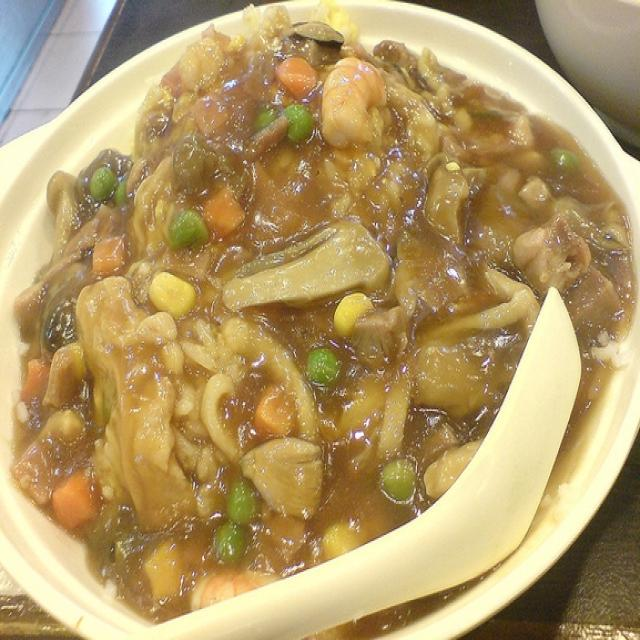面条主食: (15, 18, 619, 621)
